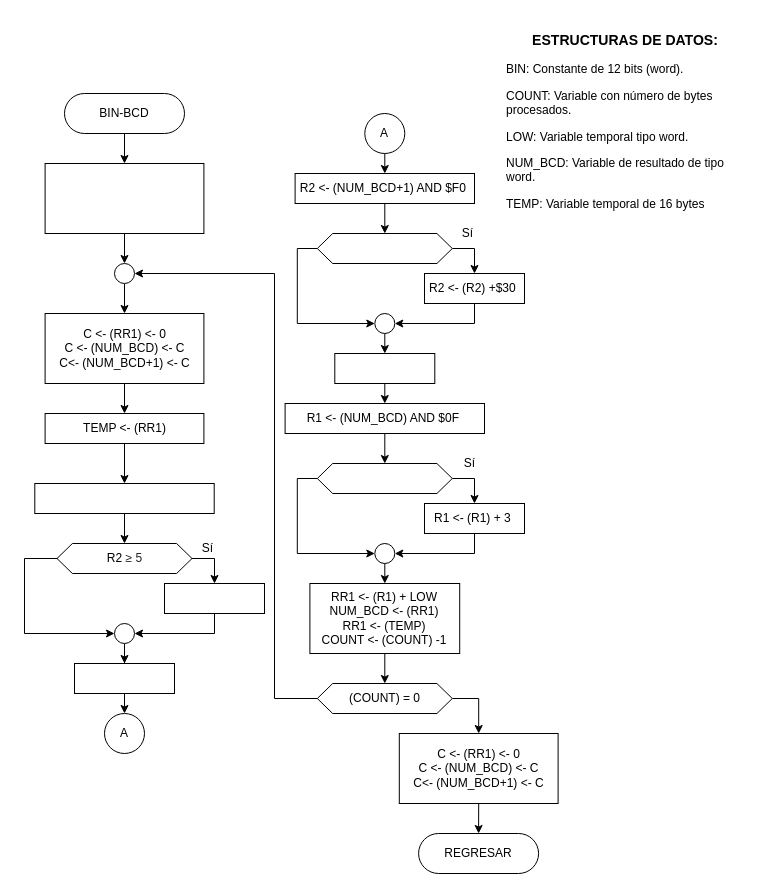
The diagram is 762 pixels wide and 891 high, and some of its shapes have lost their labels. The shapes that lost their labels are listed below. From the top down, each one's box as (x1, y1, x2, y2) in pixels, then its label:
(44, 162, 204, 234): RR1 <- BIN COUNT <- 11 NUM_BCD <- 0 (NUM_BCD +1) <- 0
(316, 232, 452, 264): R2 ≥ $50
(334, 352, 435, 384): (LOW +1) <- R2
(34, 482, 214, 514): R2 <- (NUM_BCD+1) AND $0F
(316, 462, 452, 494): R1 ≥ 5
(164, 582, 264, 614): R2 <- (R2) +3
(74, 662, 174, 694): LOW <- R2
